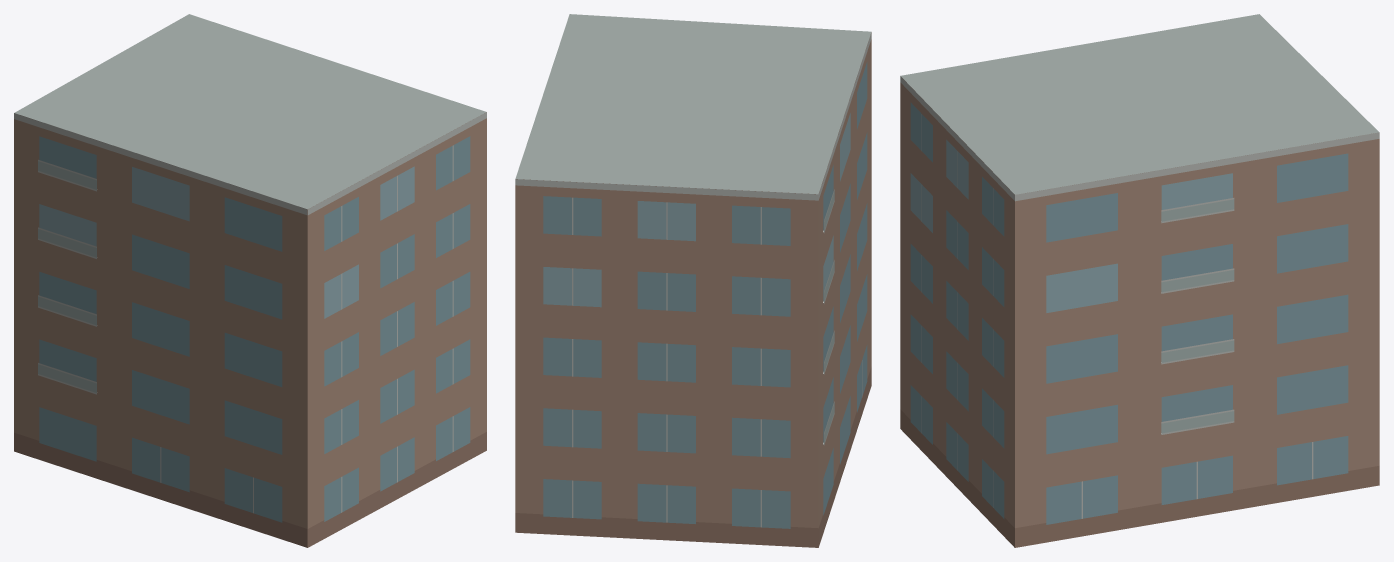
The model's file is survey-upis-32853073.glb.
The picture shows the model from 3 angles, left to right: view 1: azimuth 30°, elevation 25°; view 2: azimuth 150°, elevation 25°; view 3: azimuth 270°, elevation 25°; orthographic projection. The views are drawn at different scales.
Visible parts, largest first — view 1: survey-upis-32853073.tmp; view 2: survey-upis-32853073.tmp; view 3: survey-upis-32853073.tmp.
Boxes of the visible parts, bbox=[...] form: survey-upis-32853073.tmp: bbox=[14, 14, 486, 547]; survey-upis-32853073.tmp: bbox=[515, 14, 871, 547]; survey-upis-32853073.tmp: bbox=[900, 14, 1379, 547].
Size of the model in its own units: 14.85 by 13.5 by 16.62.
